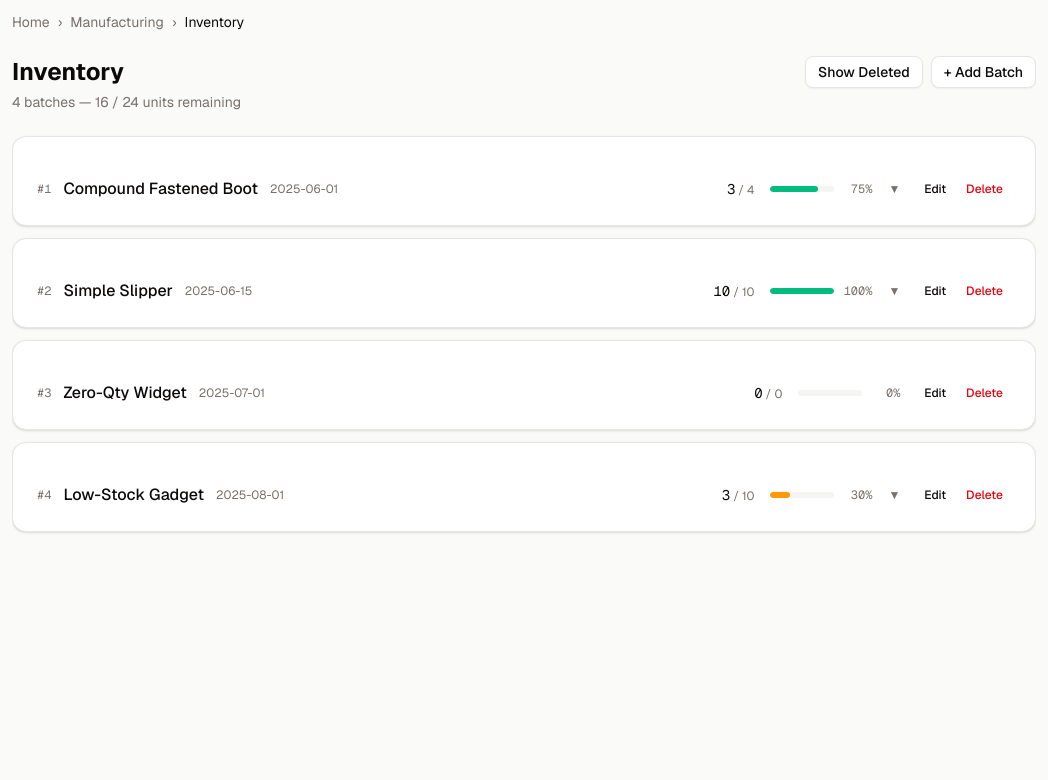
Test case: InventoryPage › collapses BOM when clicking expand again
The image size is (1048, 780).
Click the button "▼" next to "75".
click(894, 189)  # box top-left (888, 181), bottom-right (900, 197)
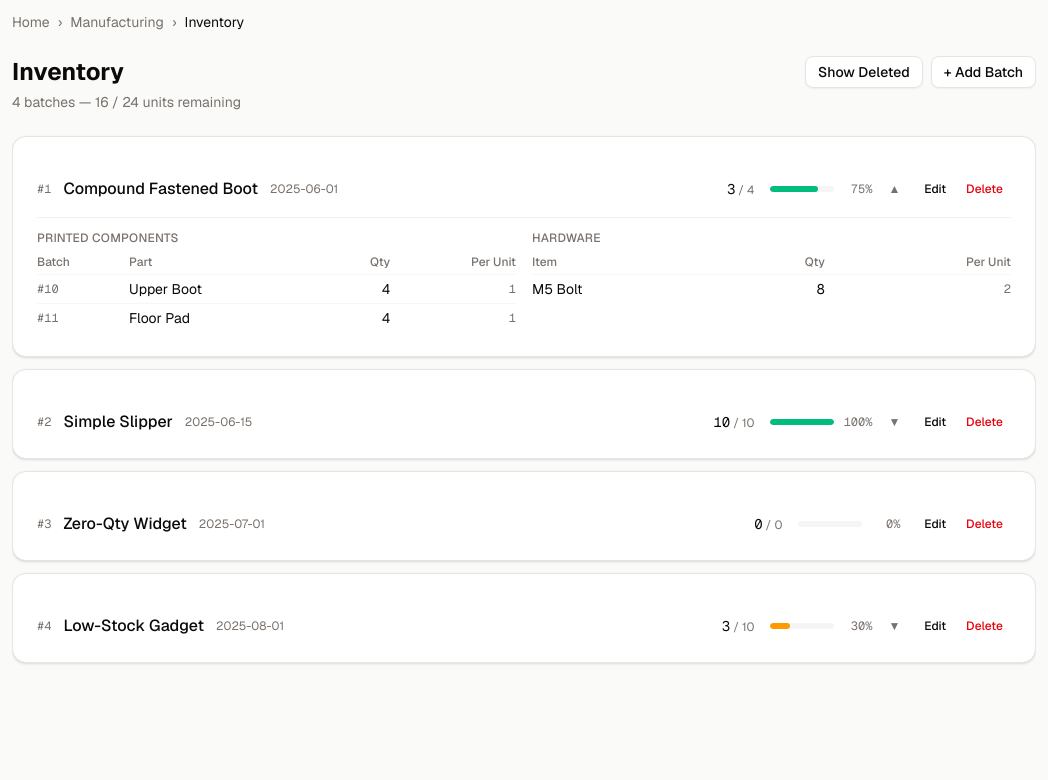
Expected: the text "Printed Components" is shown, top-left (37, 230), bottom-right (179, 246)
Click the button "▲".
click(894, 189)  # box top-left (888, 181), bottom-right (900, 197)
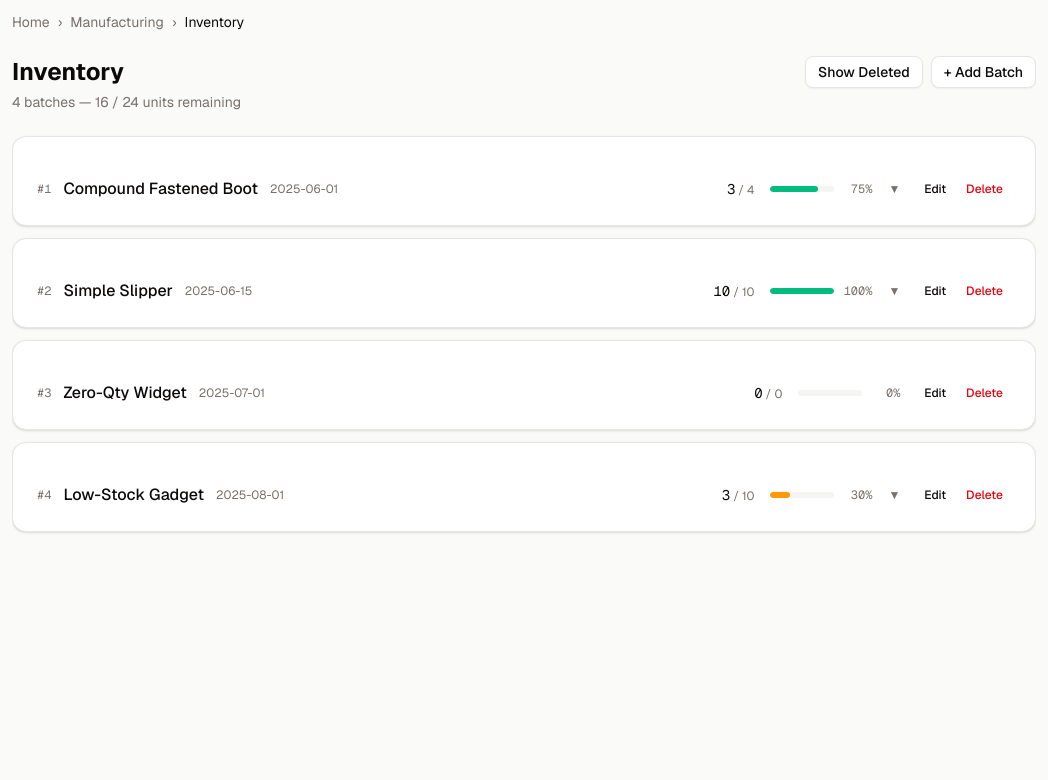
Expected: the text "Printed Components" is gone
